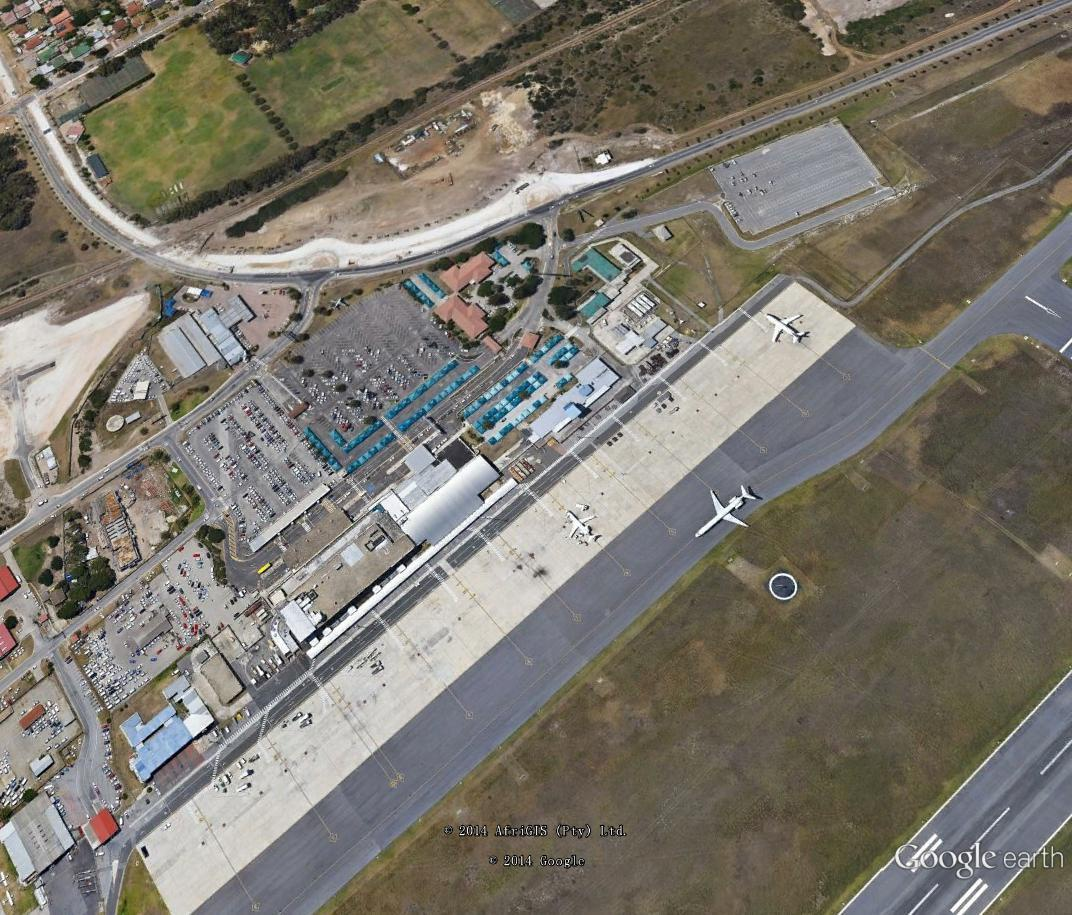aircraft: (691, 481, 763, 541), (759, 304, 819, 349), (559, 505, 604, 547)
